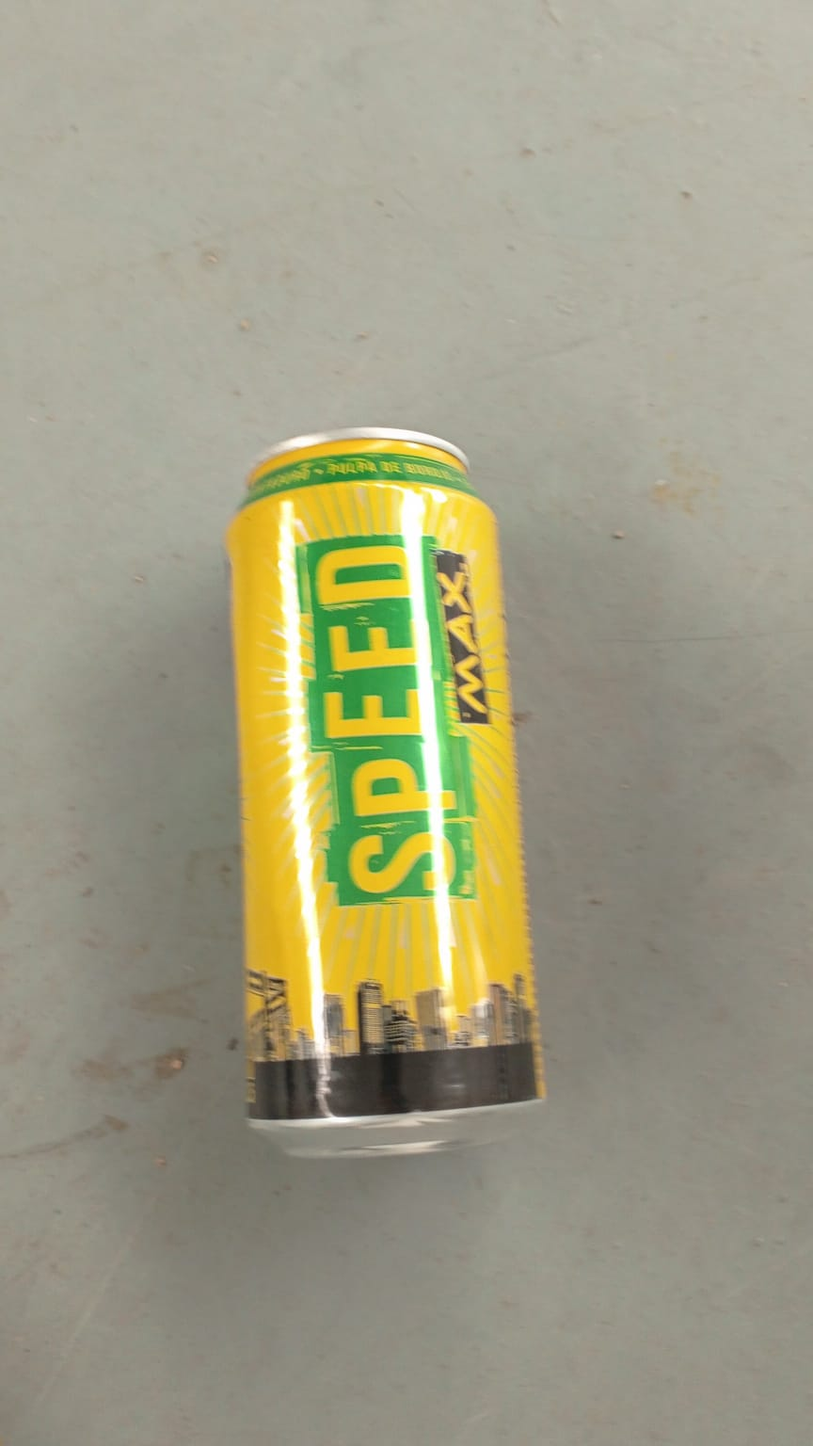Metal: (224, 430, 544, 1158)
